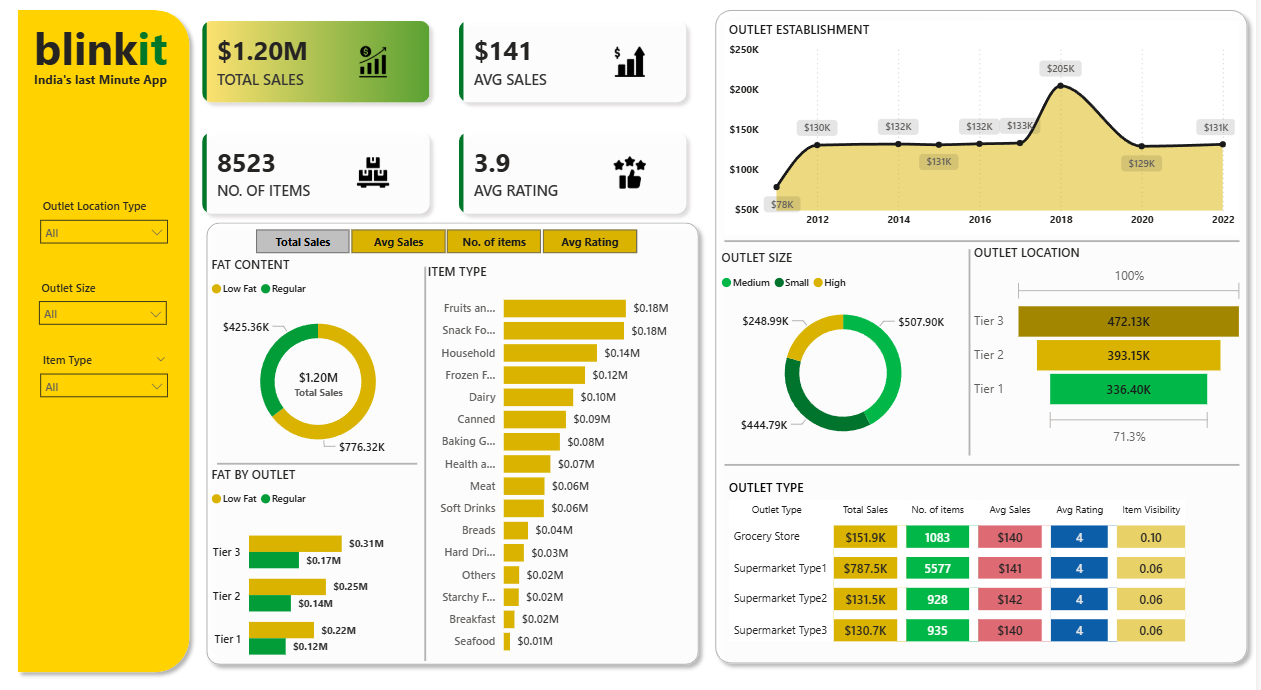

The dashboard page shown, as its layout file describes it:
{"tool":"powerbi","page":{"name":"Page 1","canvas":[1400,800],"ordinal":0},"visuals":[{"type":"cardVisual","fields":{"Data":["BlinkIT Grocery Data.Total Sales","BlinkIT Grocery Data.Avg Sales","BlinkIT Grocery Data.No. of items","BlinkIT Grocery Data.Avg Rating"]},"box":[222.2,6.8,587.6,269.9],"z":0},{"type":"shape","box":[40.9,15,205.2,740.3],"z":0,"group":"g1"},{"type":"group","id":"g1","title":"Group 1","box":[40.9,15,204.5,740.3],"z":1000},{"type":"textbox","box":[62.6,26.6,159.3,91.8],"z":1000,"group":"g1"},{"type":"textbox","box":[62.6,85.9,159.3,32.6],"z":2000,"group":"g1"},{"type":"shape","box":[246.8,246.8,554.9,500.3],"z":2000},{"type":"slicer","fields":{"Values":["Metrics.Metrics"]},"box":[284.1,256.3,465.6,40],"z":3000,"group":"g2"},{"type":"donutChart","title":"FAT CONTENT","fields":{"Y":["BlinkIT Grocery Data.Total Sales"],"Category":["BlinkIT Grocery Data.Item Fat Content"]},"box":[256.9,292.2,242.5,230],"z":3000,"group":"g3"},{"type":"shape","box":[267.5,497.5,218.8,42.5],"z":3000},{"type":"shape","box":[473.8,303.8,42.5,430],"z":4000},{"type":"clusteredBarChart","title":"FAT BY OUTLET","fields":{"Y":["BlinkIT Grocery Data.Total Sales"],"Category":["BlinkIT Grocery Data.Outlet Location Type"],"Series":["BlinkIT Grocery Data.Item Fat Content"]},"box":[256.3,520.7,222.2,231.8],"z":4000,"group":"g2"},{"type":"group","id":"g2","title":"Group 3","box":[256.3,256.3,534,496.2],"z":5000},{"type":"cardVisual","fields":{"Data":["BlinkIT Grocery Data.Total Sales"]},"box":[321.3,398.5,115.6,66.7],"z":5000,"group":"g3"},{"type":"shape","box":[801.6,15,598.5,730.7],"z":6000},{"type":"group","id":"g3","title":"Group 2","box":[256.9,292.2,242.5,230],"z":6000,"group":"g2"},{"type":"lineChart","title":"OUTLET ESTABLISHMENT","fields":{"Y":["BlinkIT Grocery Data.Total Sales"],"Category":["BlinkIT Grocery Data.Outlet Establishment Year"]},"box":[820.7,35.4,561.7,234.5],"z":7000},{"type":"shape","box":[820.7,260.4,561.7,31.4],"z":8000},{"type":"barChart","title":"ITEM TYPE","fields":{"Y":["BlinkIT Grocery Data.Total Sales"],"Category":["BlinkIT Grocery Data.Item Type"]},"box":[491.7,299.5,298.6,437.6],"z":8000,"group":"g2"},{"type":"shape","box":[1074.3,284.9,27.3,225],"z":9000},{"type":"funnel","title":"OUTLET LOCATION","fields":{"Y":["Sum(BlinkIT Grocery Data.Sales)"],"Category":["BlinkIT Grocery Data.Outlet Location Type"]},"box":[1087.9,279.5,304,225],"z":10000},{"type":"donutChart","title":"OUTLET SIZE","fields":{"Y":["BlinkIT Grocery Data.Total Sales"],"Category":["BlinkIT Grocery Data.Outlet Size"]},"box":[812.5,284.9,275.4,225],"z":11000},{"type":"shape","box":[820.7,504.4,561.7,31.4],"z":12000},{"type":"pivotTable","title":"OUTLET TYPE","fields":{"Values":["BlinkIT Grocery Data.Total Sales","BlinkIT Grocery Data.No. of items","BlinkIT Grocery Data.Avg Sales","BlinkIT Grocery Data.Avg Rating","Avg(BlinkIT Grocery Data.Item Visibility)"],"Rows":["BlinkIT Grocery Data.Outlet Type"]},"box":[820.7,535.8,561.7,188.1],"z":13000},{"type":"slicer","fields":{"Values":["BlinkIT Grocery Data.Outlet Location Type"]},"box":[64.1,225,159.5,66.8],"z":14000},{"type":"slicer","fields":{"Values":["BlinkIT Grocery Data.Outlet Size"]},"box":[62.7,313.6,159.5,66.8],"z":15000},{"type":"slicer","fields":{"Values":["BlinkIT Grocery Data.Item Type"]},"box":[64.1,392.6,159.5,66.8],"z":16000}]}

Visuals, with their boxes on the page's 1400x800 design canvas (x1, y1, x2, y2). These are canvas units, not pixel positions in the 1261x690 screenshot, which may show the page scaled, cropped or inside an application window:
cardVisual - BlinkIT Grocery Data.Total Sales x BlinkIT Grocery Data.Avg Sales: <box>222,7,810,277</box>
shape: <box>41,15,246,755</box>
"Group 1" group: <box>41,15,245,755</box>
textbox: <box>63,27,222,118</box>
textbox: <box>63,86,222,118</box>
shape: <box>247,247,802,747</box>
slicer - Metrics.Metrics: <box>284,256,750,296</box>
"FAT CONTENT" donutChart: <box>257,292,499,522</box>
shape: <box>268,498,486,540</box>
shape: <box>474,304,516,734</box>
"FAT BY OUTLET" clusteredBarChart: <box>256,521,478,752</box>
"Group 3" group: <box>256,256,790,752</box>
cardVisual - BlinkIT Grocery Data.Total Sales: <box>321,398,437,465</box>
shape: <box>802,15,1400,746</box>
"Group 2" group: <box>257,292,499,522</box>
"OUTLET ESTABLISHMENT" lineChart: <box>821,35,1382,270</box>
shape: <box>821,260,1382,292</box>
"ITEM TYPE" barChart: <box>492,300,790,737</box>
shape: <box>1074,285,1102,510</box>
"OUTLET LOCATION" funnel: <box>1088,280,1392,504</box>
"OUTLET SIZE" donutChart: <box>812,285,1088,510</box>
shape: <box>821,504,1382,536</box>
"OUTLET TYPE" pivotTable: <box>821,536,1382,724</box>
slicer - BlinkIT Grocery Data.Outlet Location Type: <box>64,225,224,292</box>
slicer - BlinkIT Grocery Data.Outlet Size: <box>63,314,222,380</box>
slicer - BlinkIT Grocery Data.Item Type: <box>64,393,224,459</box>
